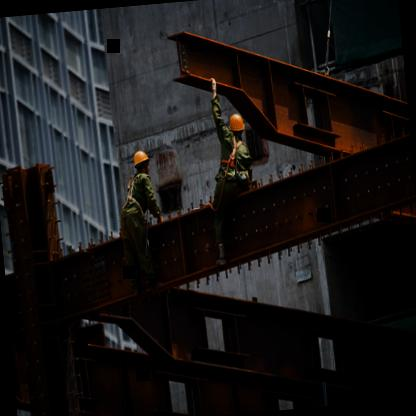helmet: (132, 149, 154, 176), (228, 113, 247, 140)
